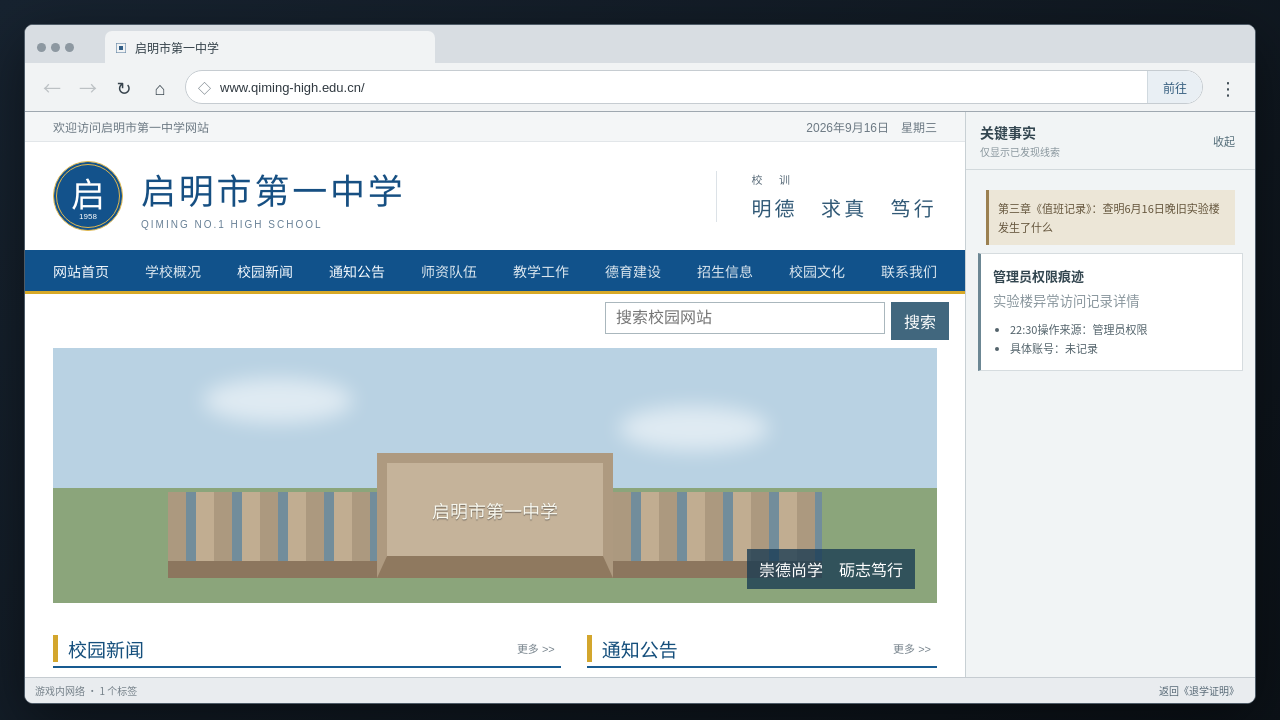
学校官网首页置顶新闻 › 更多按钮仍进入新闻列表
Click the 1st button "更多 >>": (536, 648) [511,639,561,657]
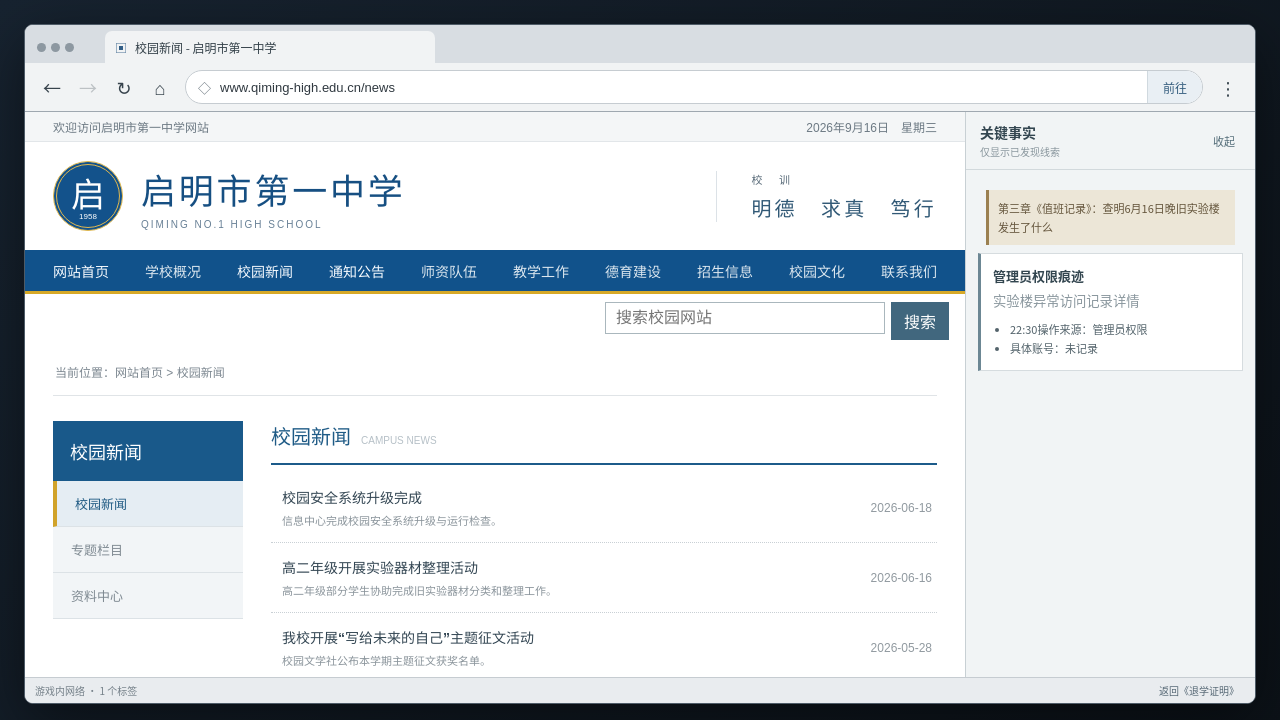
Expected: the heading "校园新闻" is shown, [53,421,243,481]
Expected: the button "校园安全系统升级完成 信息中心完成校园安全系统升级与运行检查。" is shown, [276,486,851,529]
